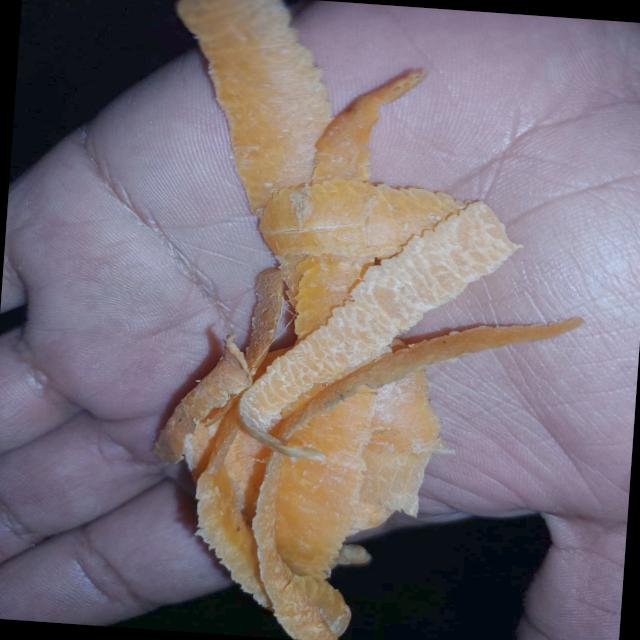organic: (135, 0, 535, 640)
